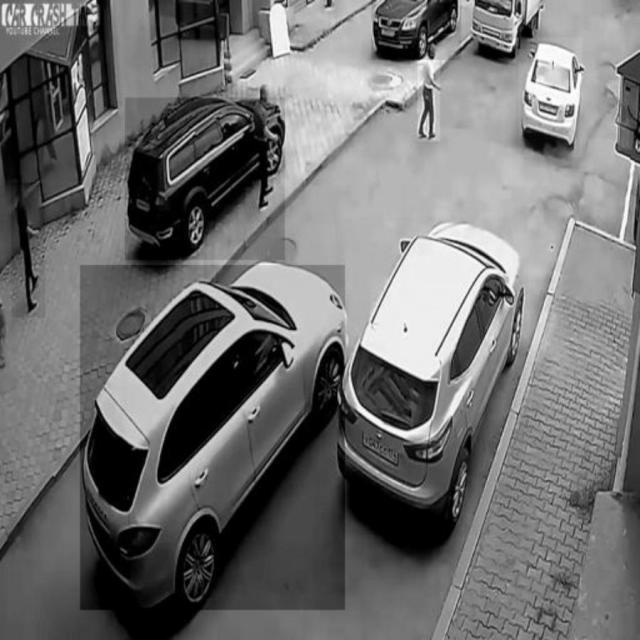person: (12, 183, 46, 317), (256, 83, 276, 209), (417, 39, 441, 141)
vehicle: (81, 266, 345, 611), (335, 216, 527, 534), (125, 98, 285, 260), (519, 38, 583, 158), (371, 0, 461, 60), (473, 1, 537, 63)
